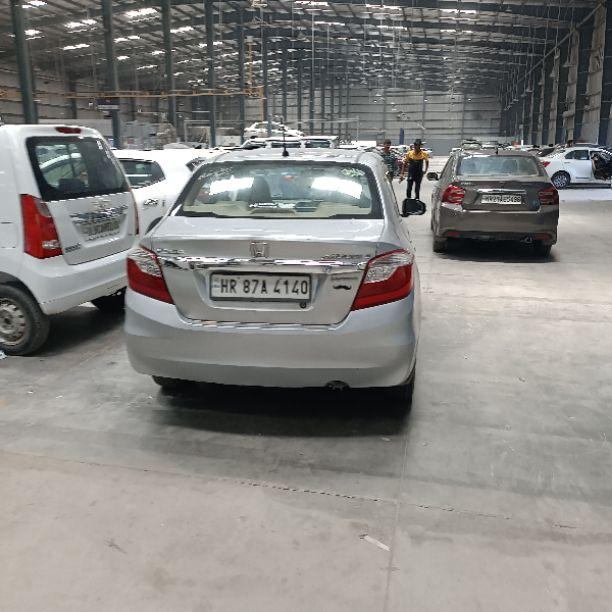license_plate: (207, 270, 313, 302)
